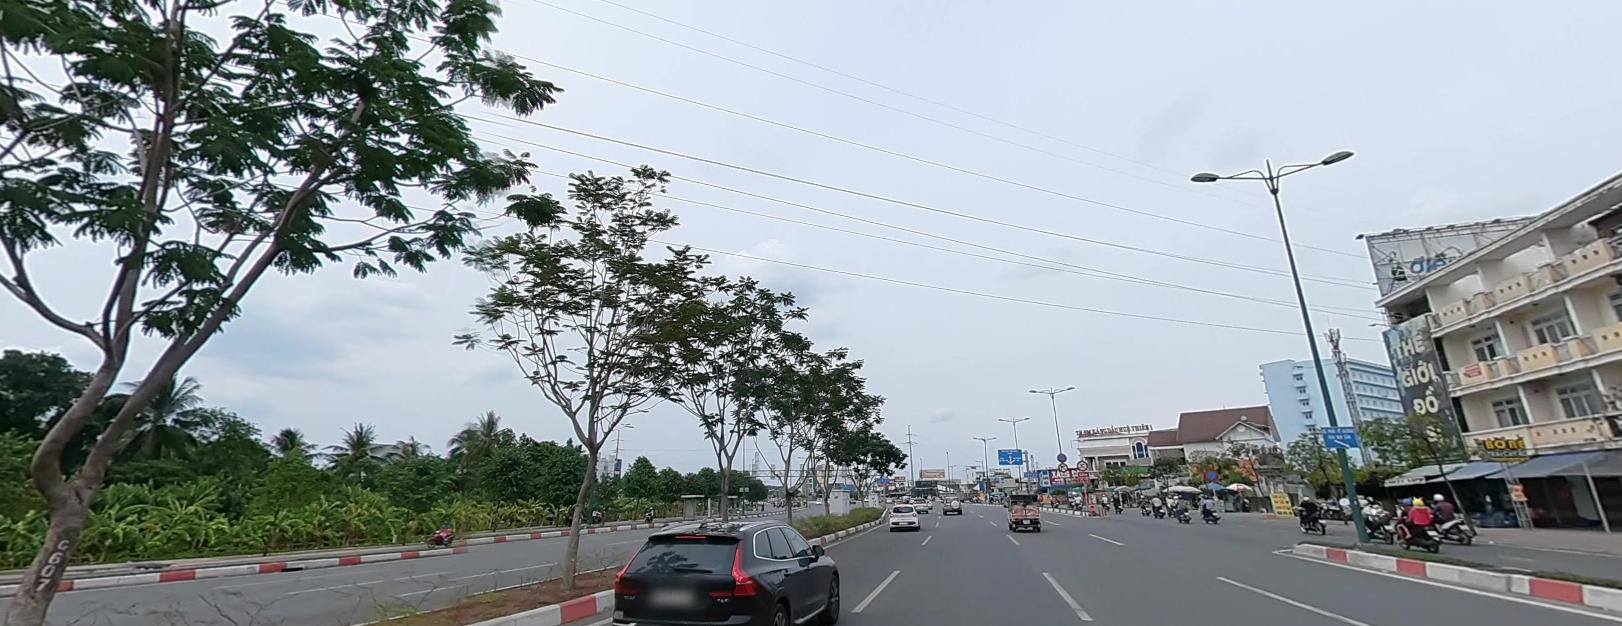Cam con lai: (1076, 459, 1087, 469)
Cam dung va do: (1203, 467, 1216, 480), (1057, 452, 1067, 460)
Cam re: (1058, 461, 1067, 470)
